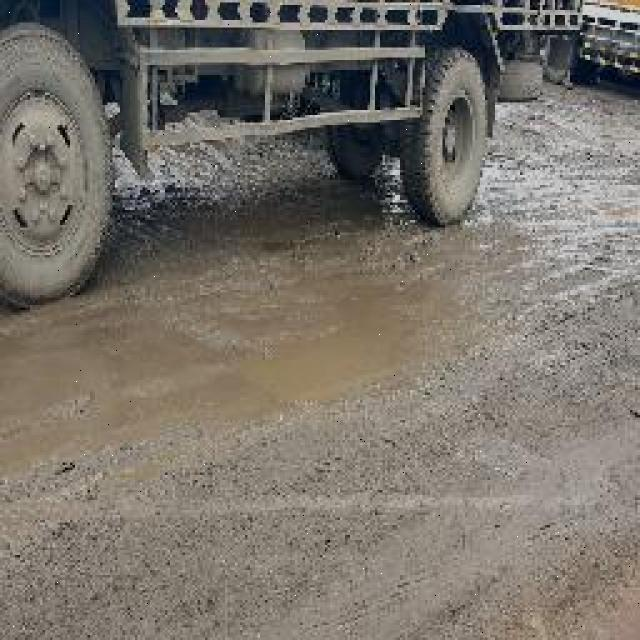waterlogging: (277, 253, 516, 407)
